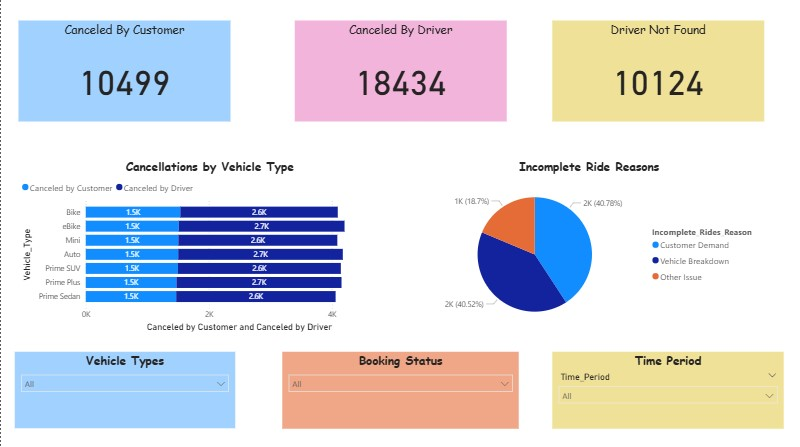

The page's visual inventory and layout, read from the dashboard file:
{"tool":"powerbi","page":{"name":"Cancellations","canvas":[1280,720],"ordinal":3},"visuals":[{"type":"card","title":"Canceled By  Customer","fields":{"Values":["cleaned_bookings.Canceled by Customer"]},"box":[28.8,35.7,338.9,161.9],"z":0},{"type":"card","title":"Canceled By Driver","fields":{"Values":["cleaned_bookings.Canceled by Driver"]},"box":[470.7,35.7,338.9,161.9],"z":1000},{"type":"card","title":"Driver Not Found","fields":{"Values":["cleaned_bookings.Driver Not Found"]},"box":[882.3,35.7,338.9,161.9],"z":2000},{"type":"barChart","title":"Cancellations by Vehicle Type","fields":{"Category":["cleaned_bookings.Vehicle_Type"],"Y":["cleaned_bookings.Canceled by Customer","cleaned_bookings.Canceled by Driver"]},"box":[28.8,256.6,612,282.7],"z":3000},{"type":"pieChart","title":"Incomplete Ride Reasons","fields":{"Y":["cleaned_bookings.Total Bookings"],"Category":["cleaned_bookings.Incomplete_Rides_Reason"]},"box":[662.8,256.6,558.5,282.7],"z":4000},{"type":"slicer","title":"Vehicle Types","fields":{"Values":["cleaned_bookings.Vehicle_Type"]},"box":[22,566.7,352.7,122.1],"z":4001},{"type":"slicer","title":"Booking Status","fields":{"Values":["cleaned_bookings.Booking_Status"]},"box":[450.1,565.4,378.7,123.5],"z":4002},{"type":"slicer","title":"Time Period","fields":{"Values":["cleaned_bookings.Time_Period"]},"box":[882.3,565.4,370.5,123.5],"z":4003}]}

Visuals, with their boxes in screenshot pixels (x1, y1, x2, y2), scaled from the page's 1280x720 canvas onto the 800x447 screenshot:
"Canceled By  Customer" card: 18:22:230:123
"Canceled By Driver" card: 294:22:506:123
"Driver Not Found" card: 551:22:763:123
"Cancellations by Vehicle Type" barChart: 18:159:400:335
"Incomplete Ride Reasons" pieChart: 414:159:763:335
"Vehicle Types" slicer: 14:352:234:428
"Booking Status" slicer: 281:351:518:428
"Time Period" slicer: 551:351:783:428
